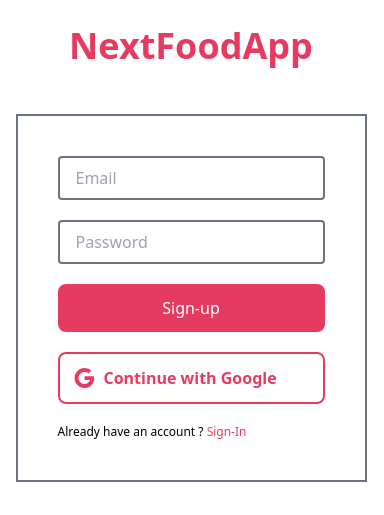
Test: Sign-up Page › should shows error messages if we submit the form with empty fields
Step 1. Click the button "Sign-up" → (191, 308), box x1=58 y1=284 x2=324 y2=332
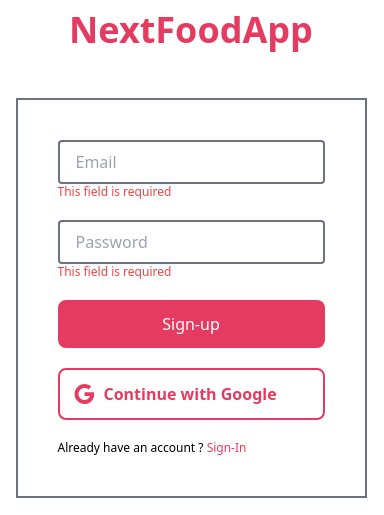
Now the text "This field is required" is shown 2 times, box x1=58 y1=183 x2=171 y2=200; x1=58 y1=263 x2=171 y2=280
